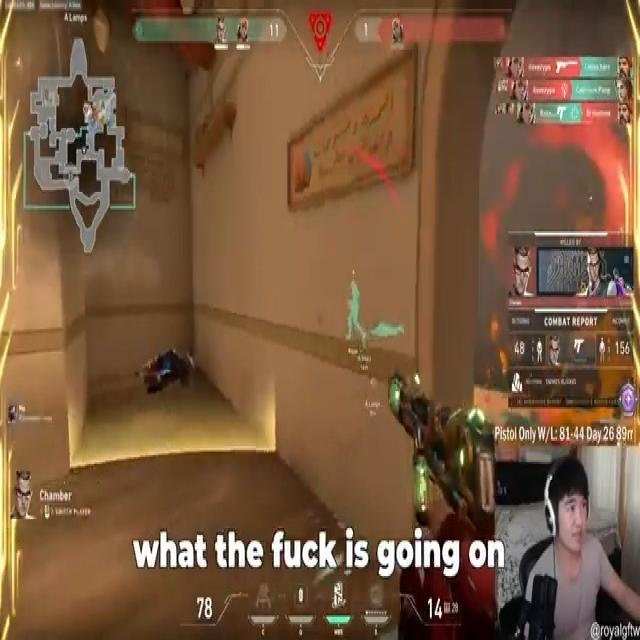ally behind wall: (344, 278, 366, 354)
